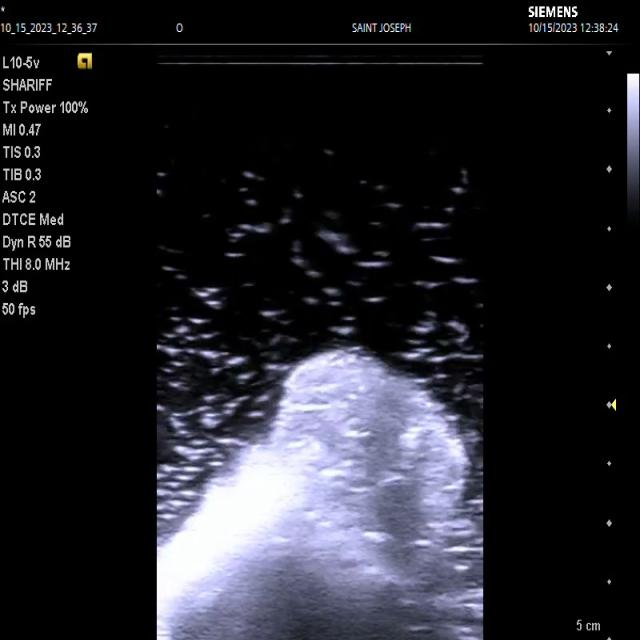tissue: (157, 343, 482, 640)
